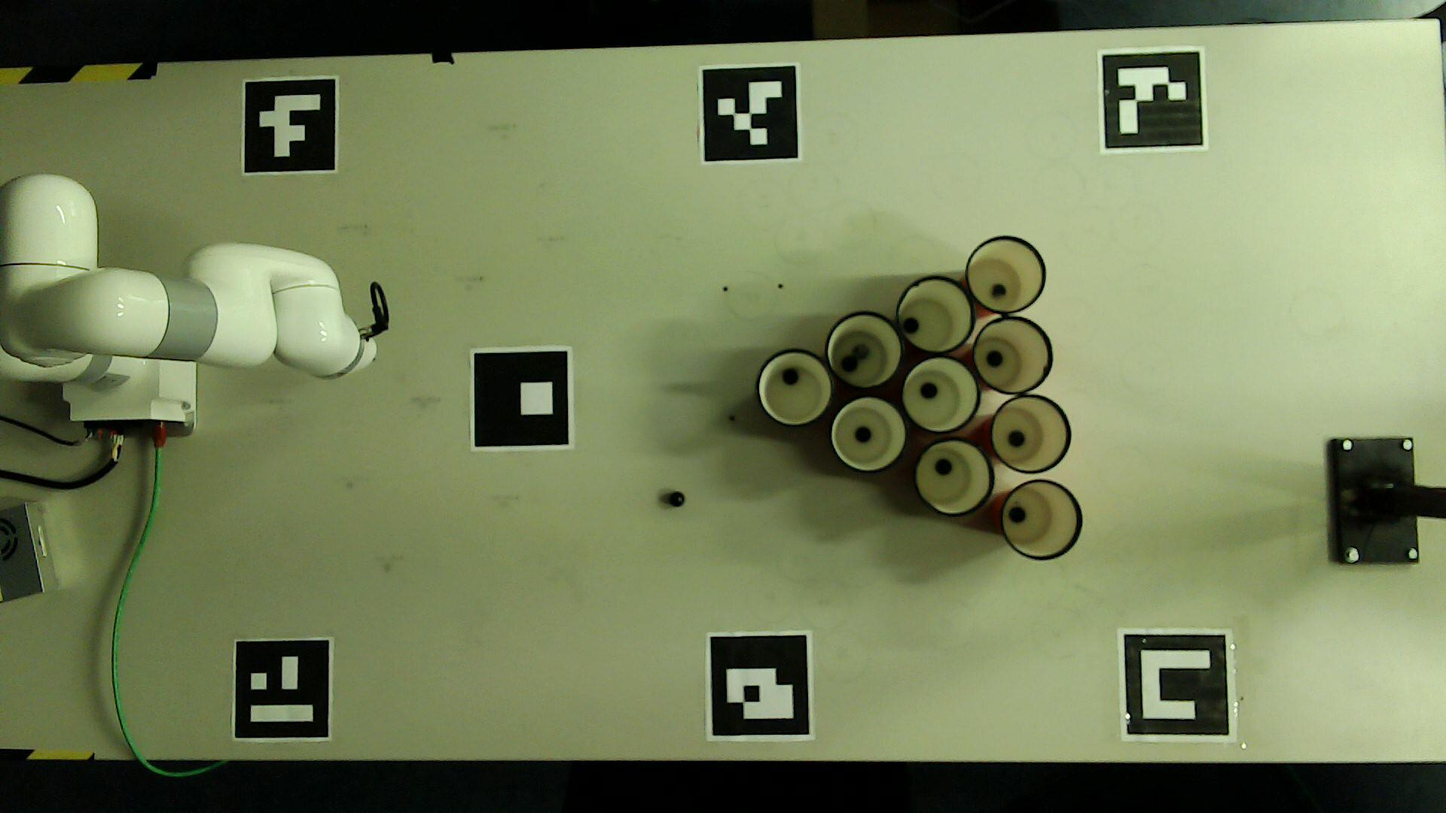ball: (841, 357, 857, 373), (852, 345, 869, 360), (937, 460, 952, 476), (1009, 431, 1024, 447), (988, 351, 1002, 368), (1009, 507, 1024, 522), (921, 383, 936, 398), (784, 369, 798, 384), (904, 319, 918, 334), (670, 493, 684, 506), (857, 428, 871, 441), (992, 284, 1005, 296)
cup: (1001, 480, 1081, 559), (901, 355, 980, 433), (914, 439, 993, 517), (826, 312, 903, 390), (991, 396, 1070, 472), (897, 277, 974, 354), (832, 396, 908, 472), (975, 317, 1051, 393), (756, 351, 833, 426), (968, 237, 1044, 312)
